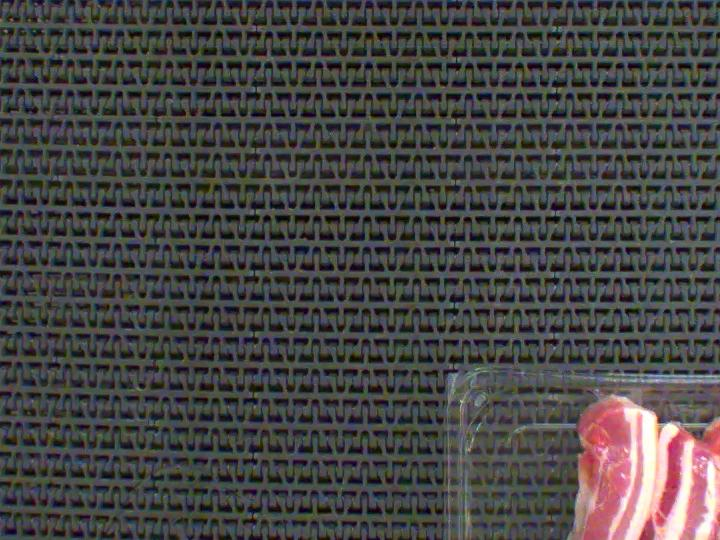packaging-error: (591, 381, 646, 401)
